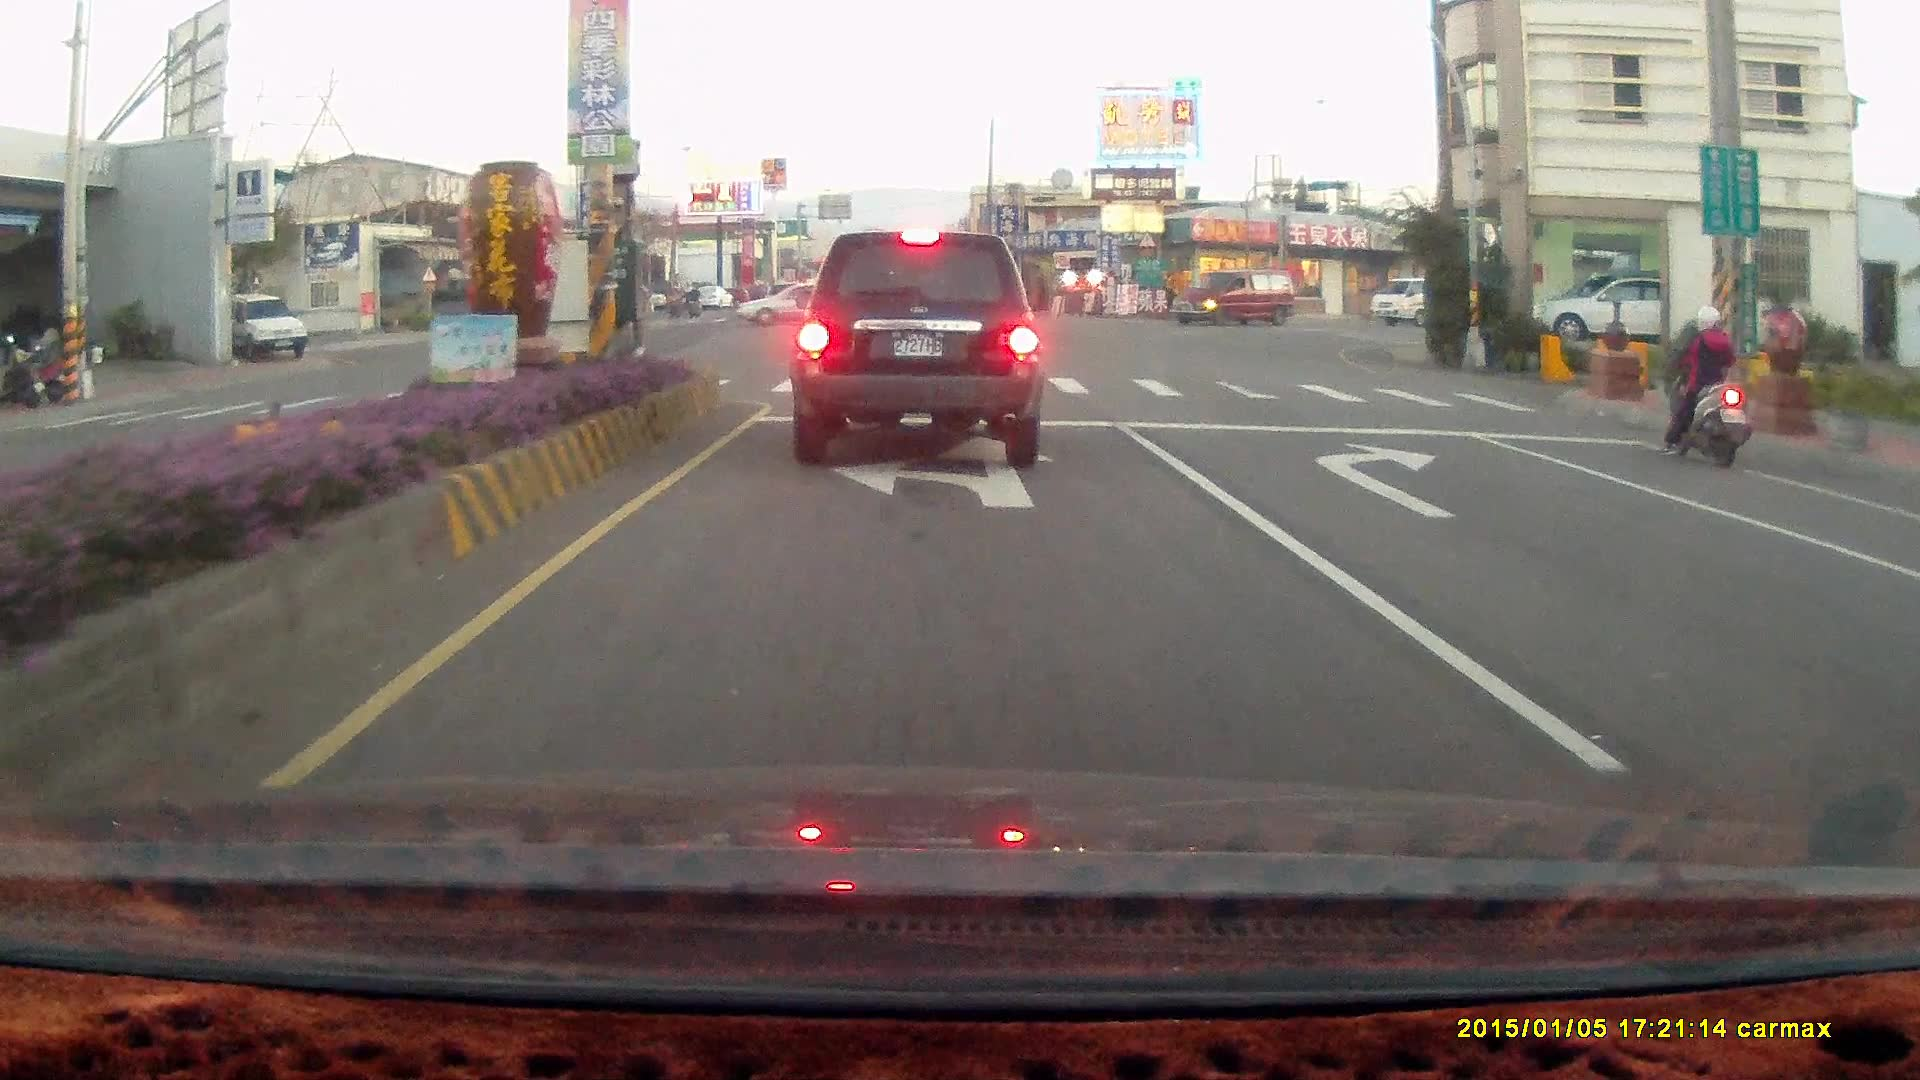rider: (1662, 303, 1750, 469)
vehicle: (787, 229, 1042, 467), (1526, 270, 1709, 345), (1896, 493, 1920, 836), (1551, 280, 1676, 343), (1167, 267, 1297, 326), (1176, 268, 1306, 325), (213, 290, 311, 360), (1883, 528, 1920, 690), (734, 279, 858, 326), (742, 280, 866, 325)
